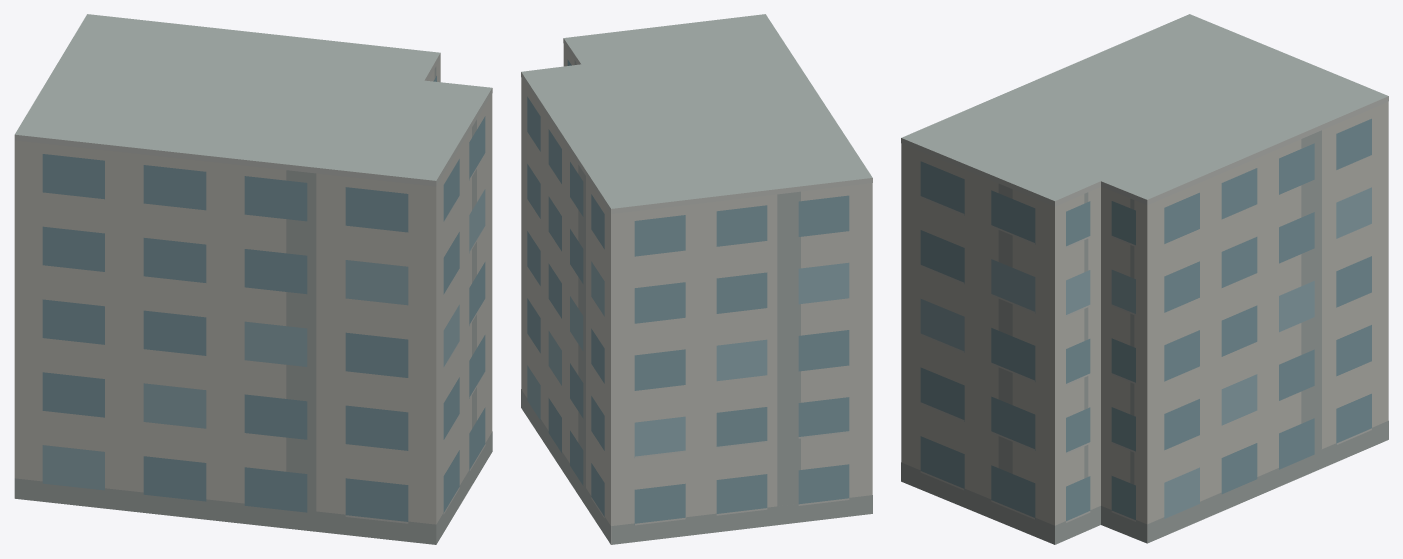
File: survey-upis-32883889.glb
3 views of the same model, side by side, from view 1: azimuth 30°, elevation 25°; view 2: azimuth 150°, elevation 25°; view 3: azimuth 270°, elevation 25° (orthographic). The views are drawn at different scales.
Visible parts, largest first — view 1: survey-upis-32883889.tmp; view 2: survey-upis-32883889.tmp; view 3: survey-upis-32883889.tmp.
Boxes of the visible parts, box(x1,y1,x2,y2) form: survey-upis-32883889.tmp: box(14, 14, 492, 544); survey-upis-32883889.tmp: box(521, 14, 872, 544); survey-upis-32883889.tmp: box(901, 14, 1388, 544).
Bounding box in the file's own units: 18.12 × 15.5 × 19.94.
